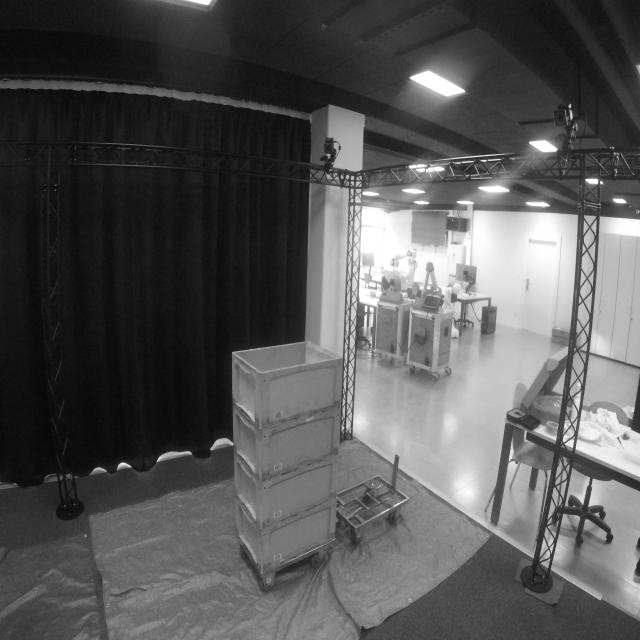Box4G: (228, 338, 346, 427), (231, 407, 342, 483), (233, 496, 337, 574), (233, 454, 342, 528)
